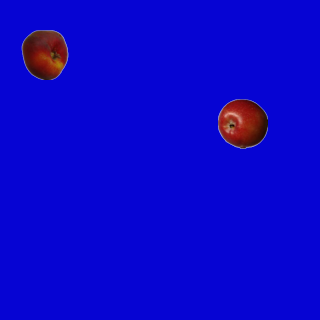Apple Braeburn: (217, 98, 267, 148)
Nectarine Flat: (19, 29, 69, 79)
